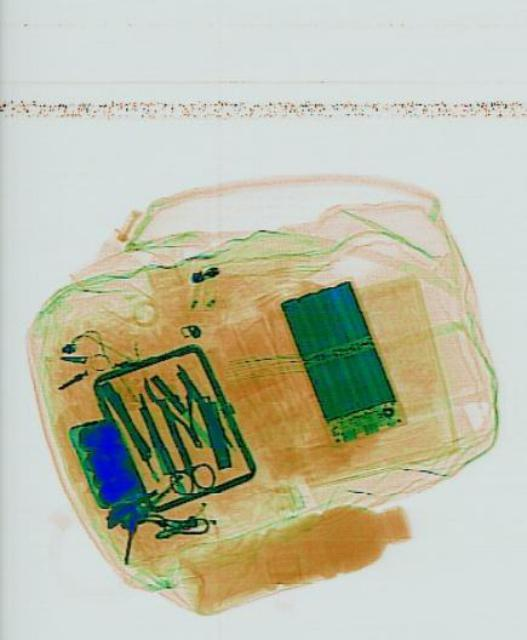Pliers: (138, 357, 215, 459)
Scissors: (145, 402, 216, 504)
